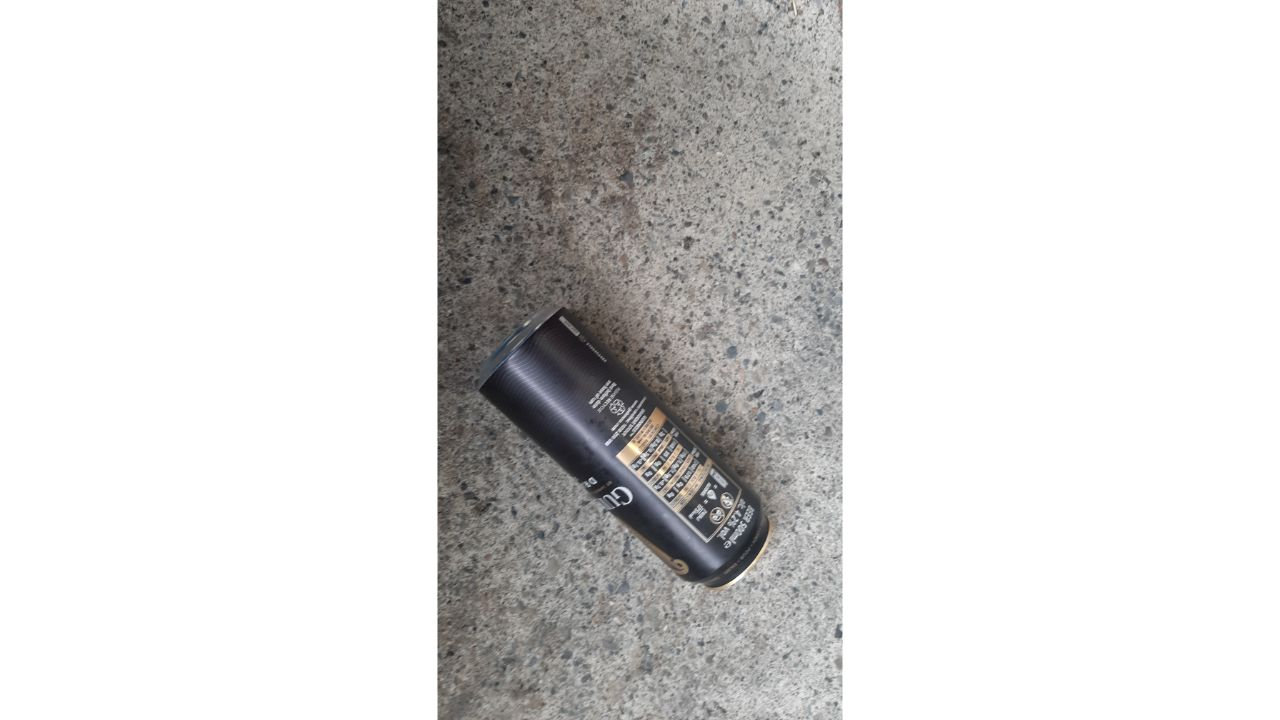Can: (466, 291, 787, 606)
